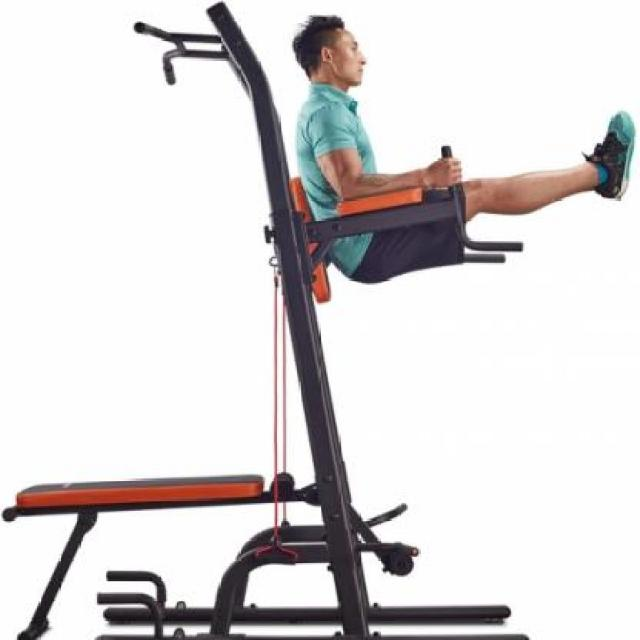chinning dipping: (137, 0, 528, 640)
